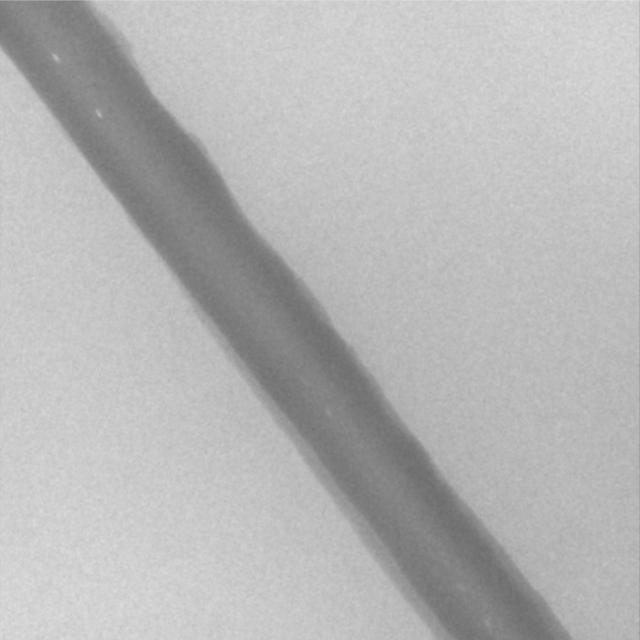air hole: (50, 51, 60, 63), (93, 107, 102, 119)
